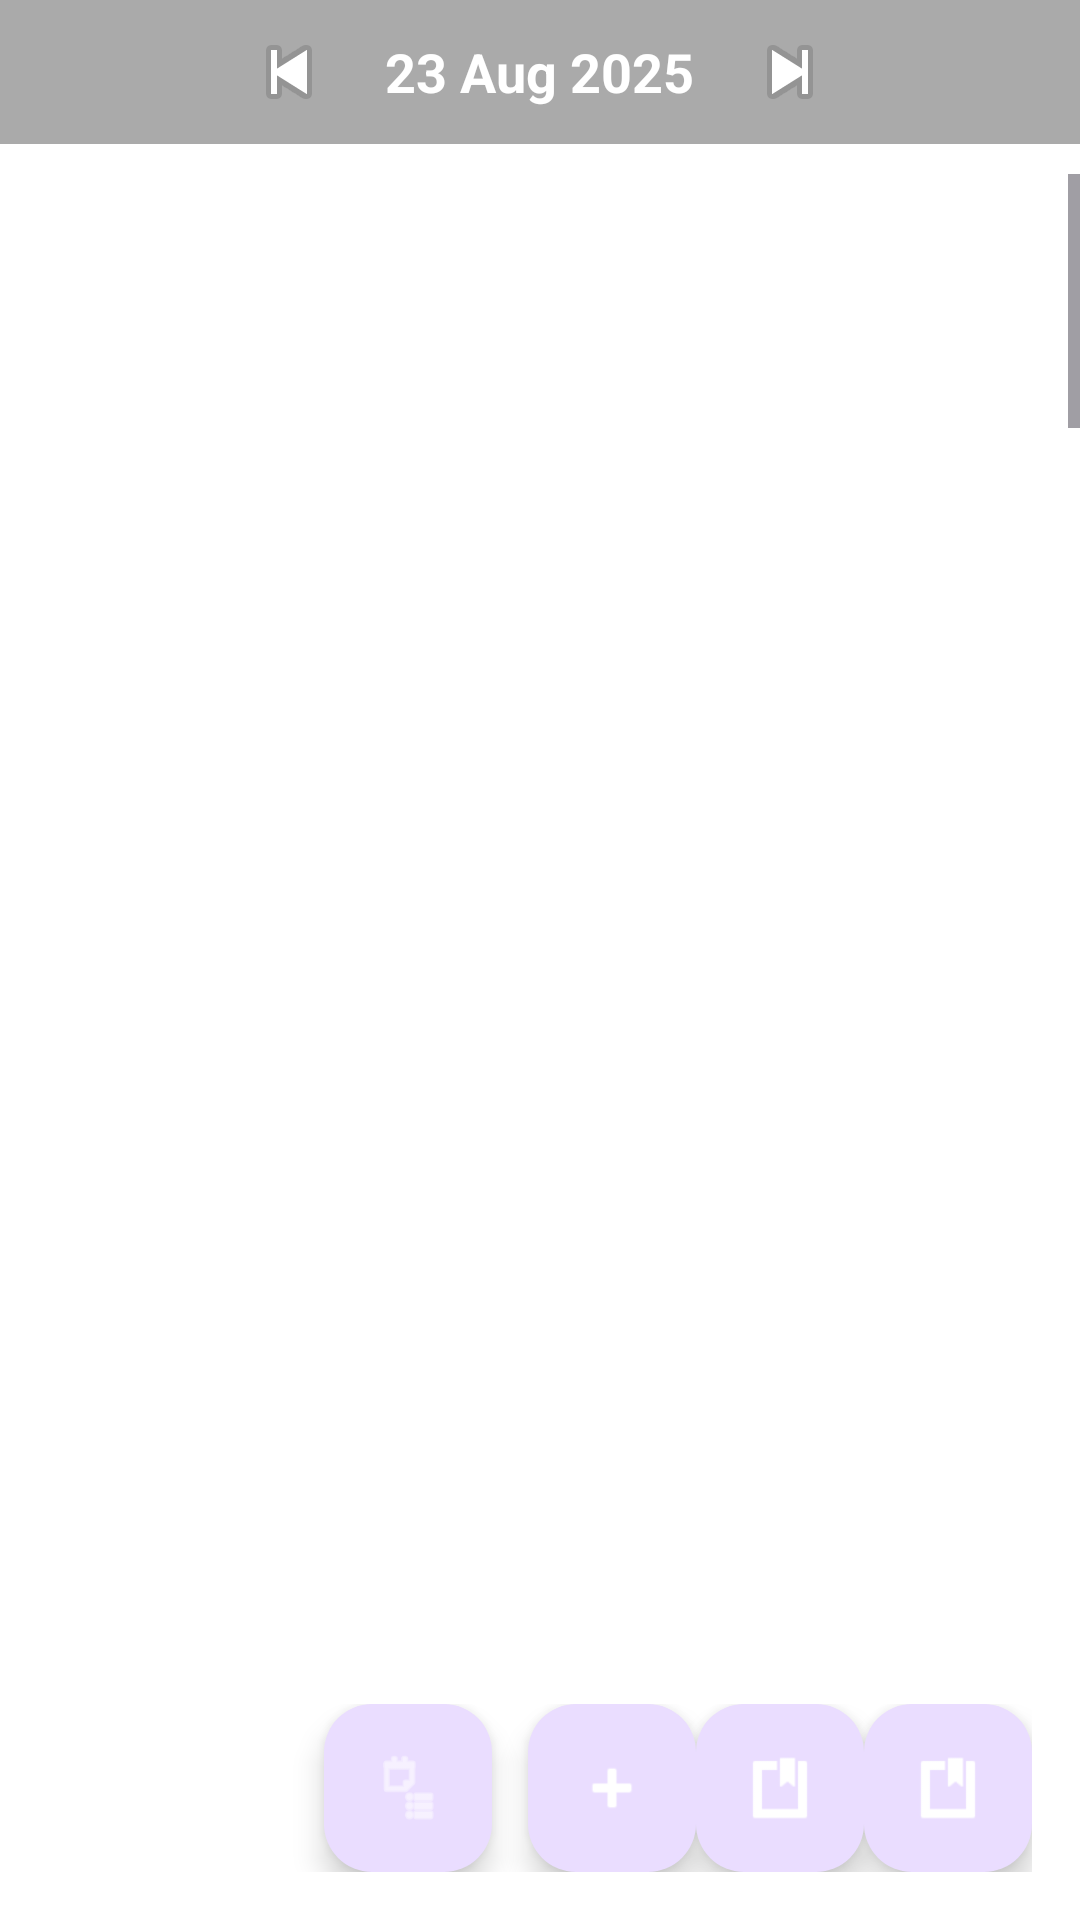

Where to tap for icons on this 1080*1920 app screen, as [x,y]:
add: [612,1788]
next: [790,72]
previous: [289,72]
Prikaz liste zadataka: [408,1788]
